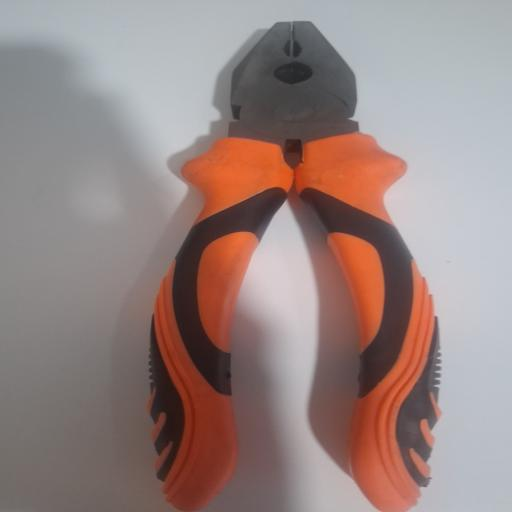alicate: (145, 20, 444, 512)
